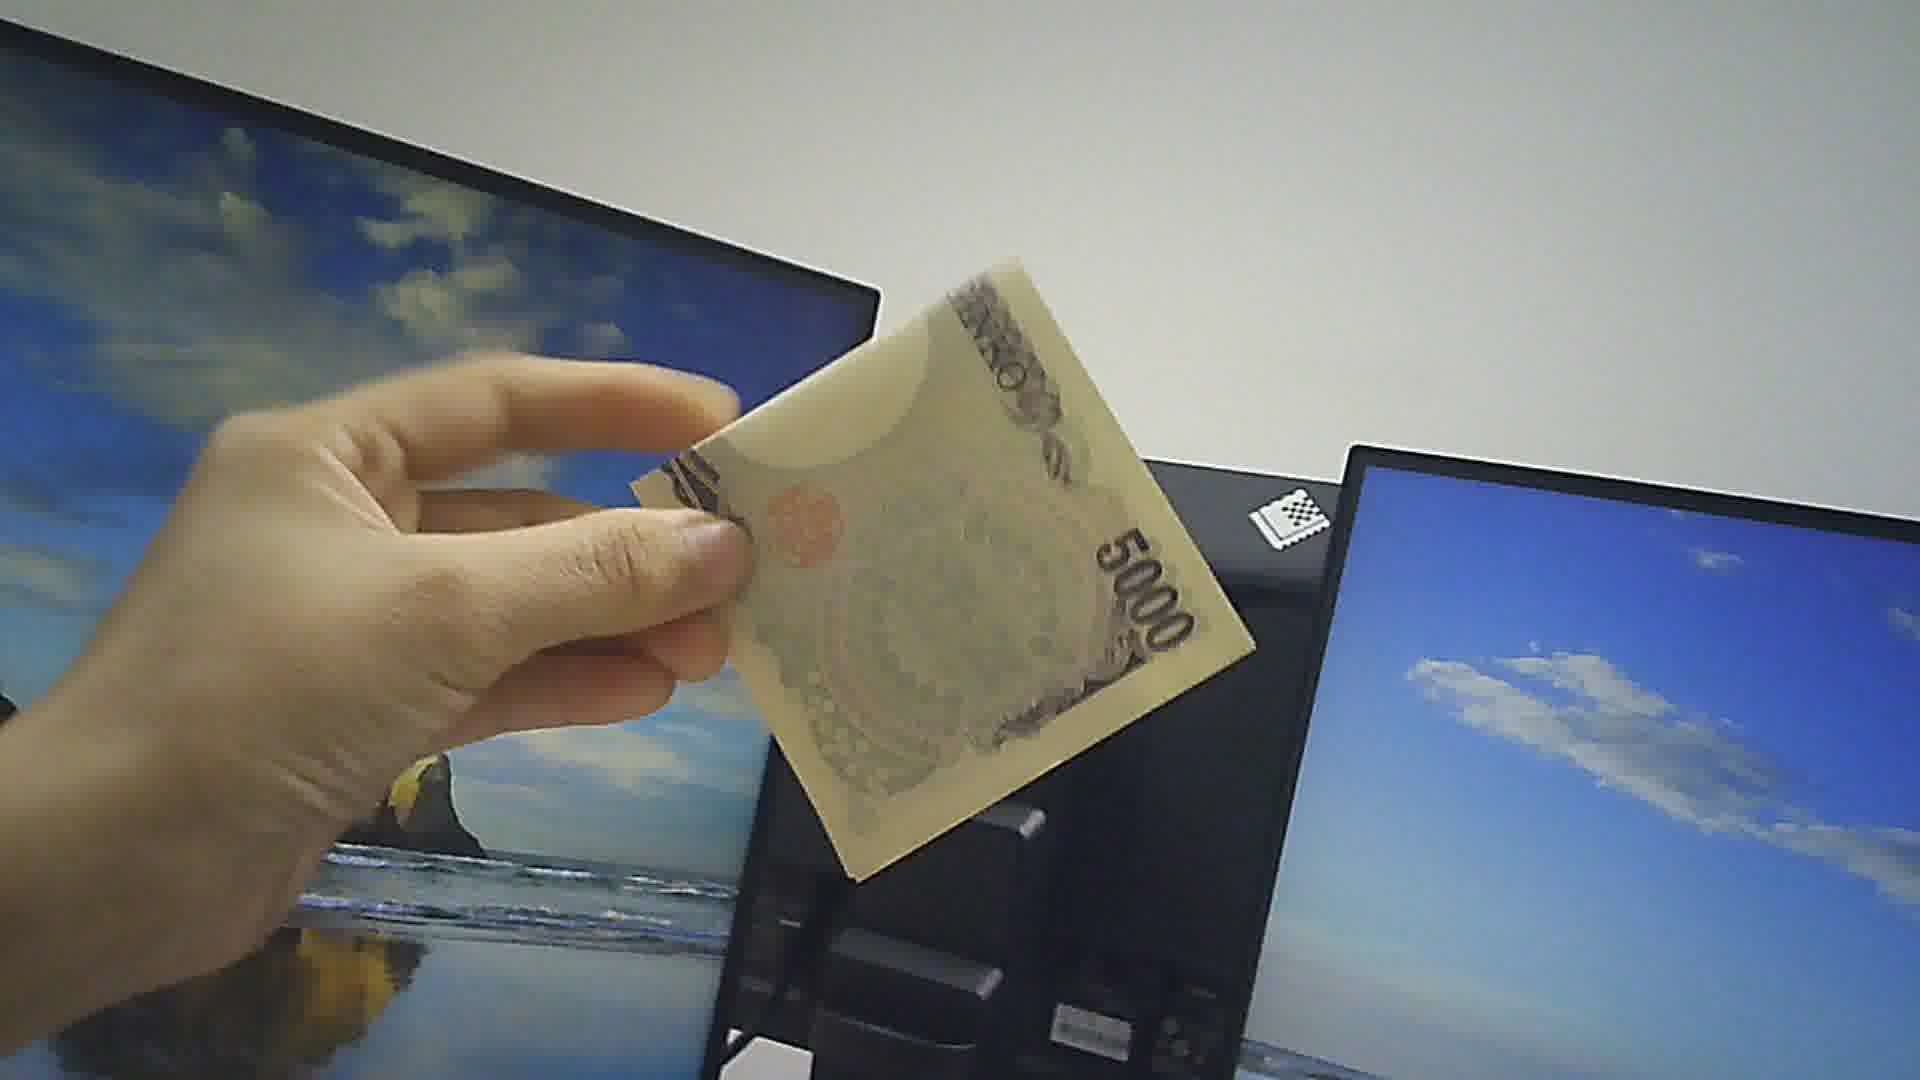5,000 Yen: (618, 258, 1247, 887)
